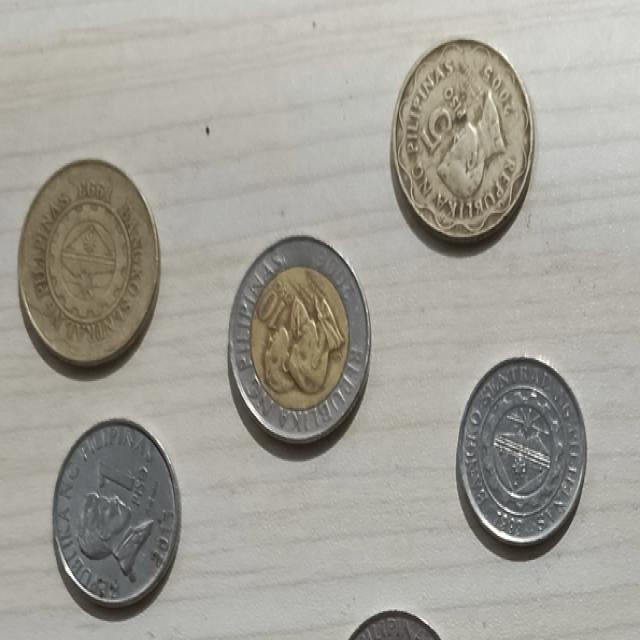10_peso: (229, 237, 370, 442)
1_peso: (457, 358, 586, 542), (54, 419, 180, 605)
5_peso: (18, 162, 159, 363), (393, 40, 532, 238)
